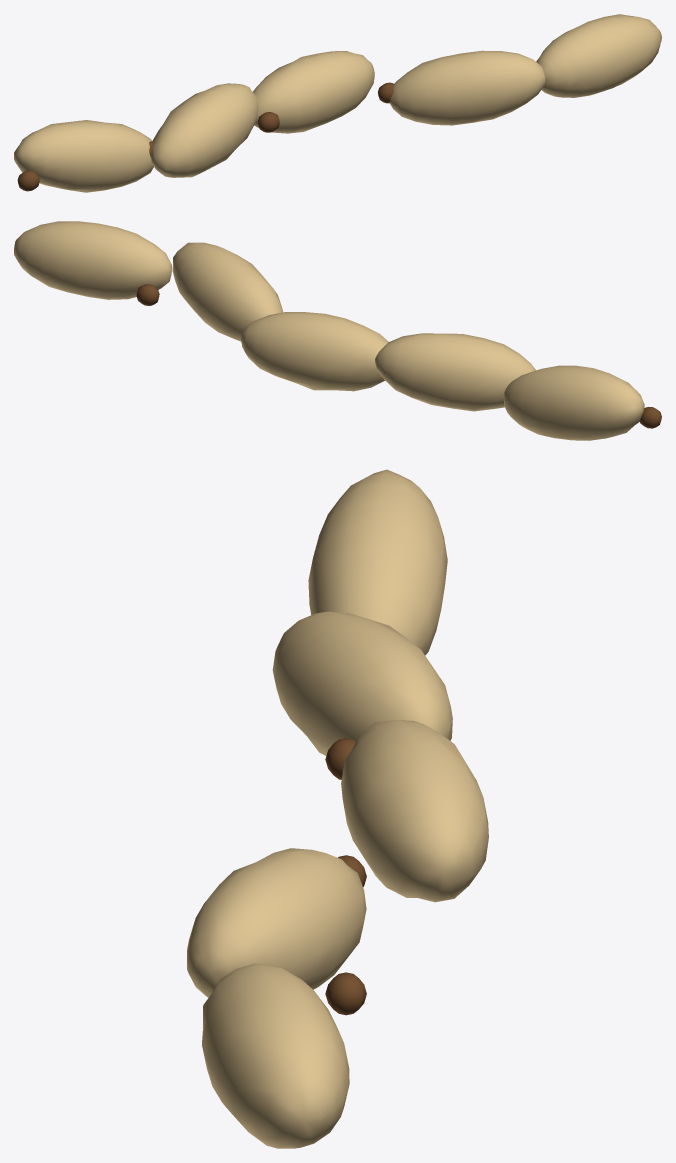
The model's file is nest-cocoons.glb.
The picture shows the model from 3 angles, top to bottom: view 1: azimuth 30°, elevation 25°; view 2: azimuth 150°, elevation 25°; view 3: azimuth 270°, elevation 25°; orthographic projection. The views are drawn at different scales.
Visible parts, largest first — view 1: Cocoons__Silk, Cocoons__DarkTips; view 2: Cocoons__Silk, Cocoons__DarkTips; view 3: Cocoons__Silk, Cocoons__DarkTips.
Boxes of the visible parts, x1,y1,x2,y2 form: Cocoons__Silk: [14, 14, 661, 192]; Cocoons__DarkTips: [17, 82, 394, 191]; Cocoons__Silk: [14, 221, 644, 440]; Cocoons__DarkTips: [136, 284, 661, 428]; Cocoons__Silk: [187, 469, 488, 1148]; Cocoons__DarkTips: [325, 738, 366, 1015].
Bounding box in the file's own units: 20.94 × 2.22 × 4.36.
